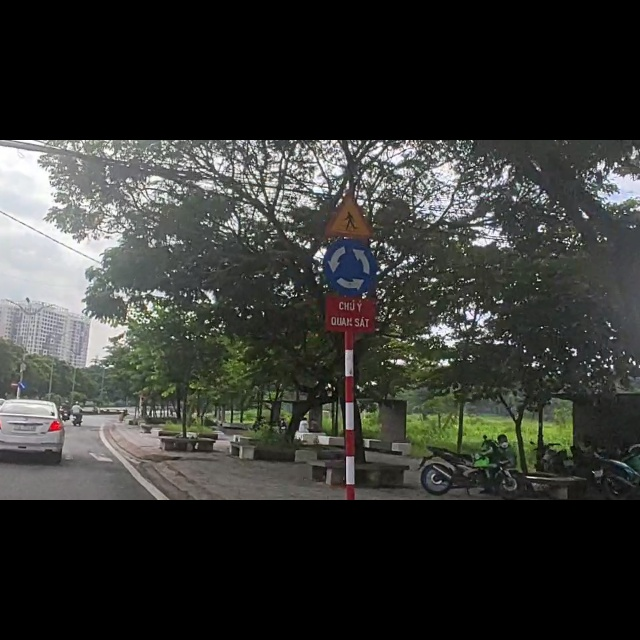bien_hieu_lenh: (321, 180, 382, 276), (325, 92, 377, 174), (19, 429, 27, 444), (11, 428, 19, 442)
